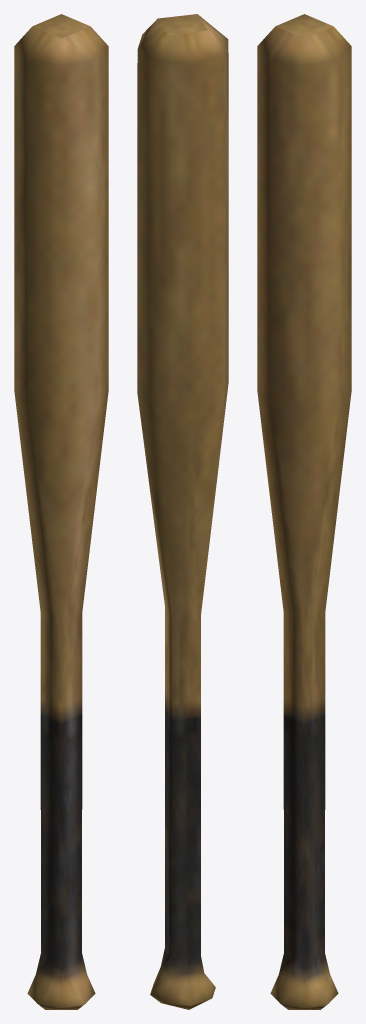
Rendered from baseball_bat_psx.fbx.
3 views of the same model, side by side, from view 1: azimuth 90°, elevation 25°; view 2: azimuth 150°, elevation 25°; view 3: azimuth 270°, elevation 25° (orthographic).
Visible parts, largest first — view 1: BaseballBat.001; view 2: BaseballBat.001; view 3: BaseballBat.001.
Part boxes in pixels (box(x1,y1,x2,y2)): BaseballBat.001: box(14, 14, 108, 1009); BaseballBat.001: box(137, 14, 228, 1009); BaseballBat.001: box(257, 14, 351, 1009).
Bounding box in the file's own units: 0.0711 × 0.8107 × 0.0711.
Materials: 1 (1 with a texture image).
